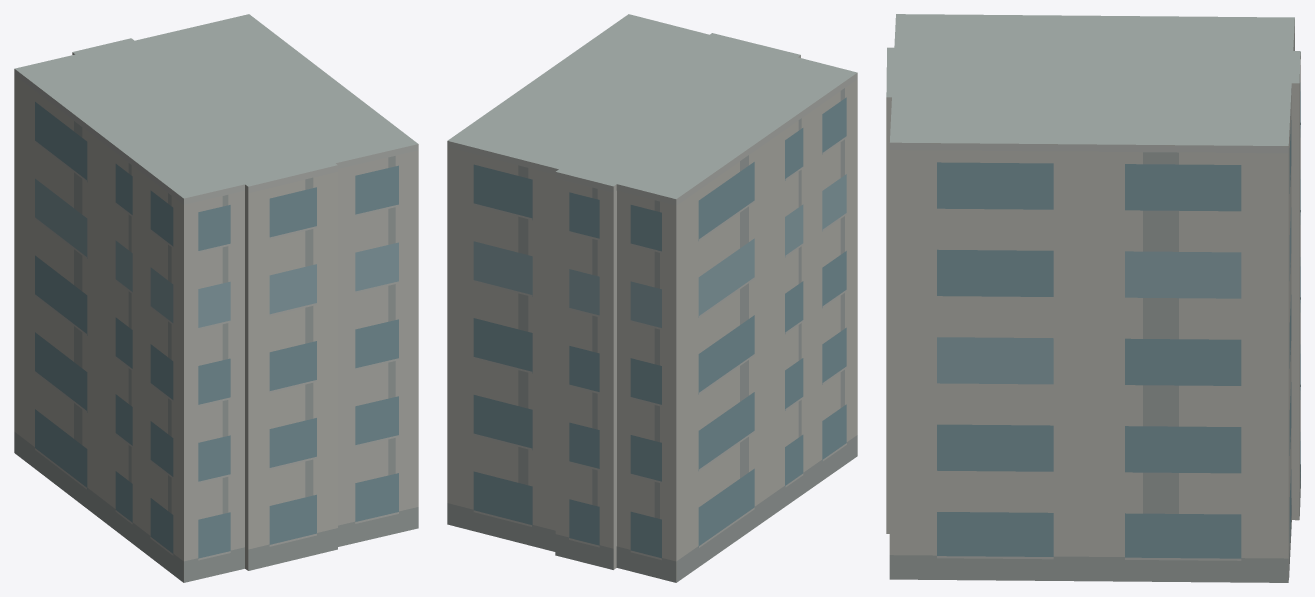
File: survey-upis-32566062.glb
3 renders of one model, left to right at view 1: azimuth 30°, elevation 25°; view 2: azimuth 150°, elevation 25°; view 3: azimuth 270°, elevation 25°, orthographic. The views are drawn at different scales.
Parts seen in each view (by area): view 1: survey-upis-32566062.tmp; view 2: survey-upis-32566062.tmp; view 3: survey-upis-32566062.tmp.
Part boxes in pixels (x1,y1,x2,y2): survey-upis-32566062.tmp: (14,14,418,582); survey-upis-32566062.tmp: (447,14,857,582); survey-upis-32566062.tmp: (886,14,1300,582).
Size of the model in its own units: 9.41 by 14.5 by 12.48.
